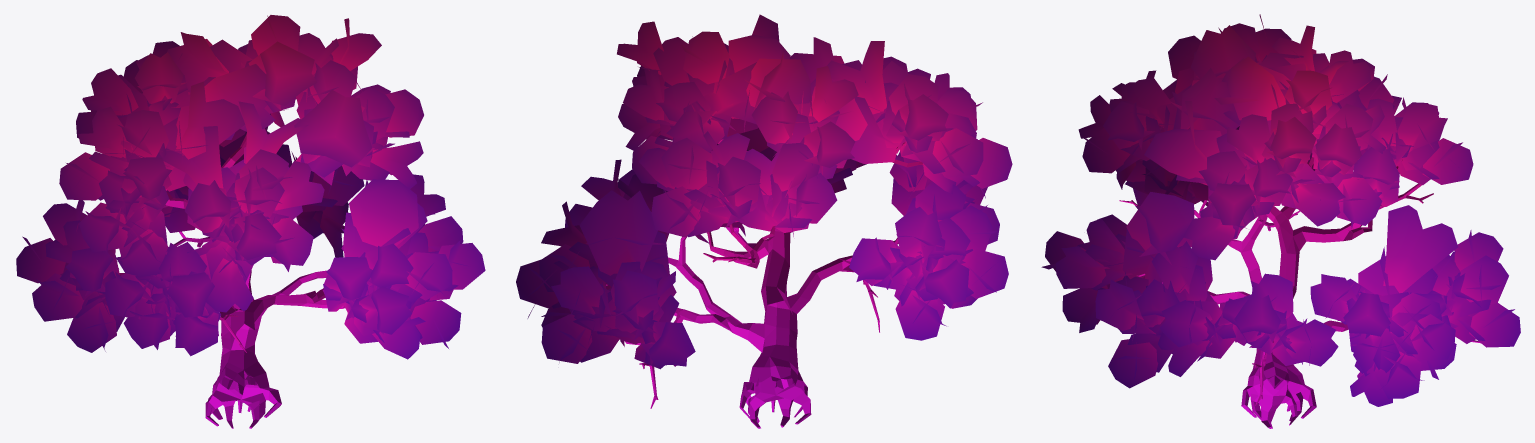
File: SM_Tree_Generic_Giant_01_LOD_01.gltf
3 renders of one model, left to right at view 1: azimuth 30°, elevation 25°; view 2: azimuth 150°, elevation 25°; view 3: azimuth 270°, elevation 25°, orthographic. The views are drawn at different scales.
Parts seen in each view (by area): view 1: SM_Tree_Generic_Giant_01_LOD_01; view 2: SM_Tree_Generic_Giant_01_LOD_01; view 3: SM_Tree_Generic_Giant_01_LOD_01.
Part boxes in pixels (left/top/right/bottom): SM_Tree_Generic_Giant_01_LOD_01: left=16, top=15, right=485, bottom=428; SM_Tree_Generic_Giant_01_LOD_01: left=516, top=14, right=1012, bottom=428; SM_Tree_Generic_Giant_01_LOD_01: left=1041, top=14, right=1520, bottom=428.
Size of the model in its own units: 12.44 by 11.19 by 13.12.
